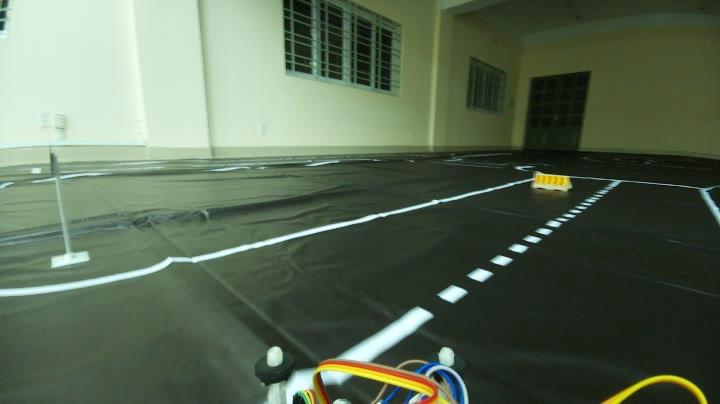roadblock: (529, 168, 572, 193)
